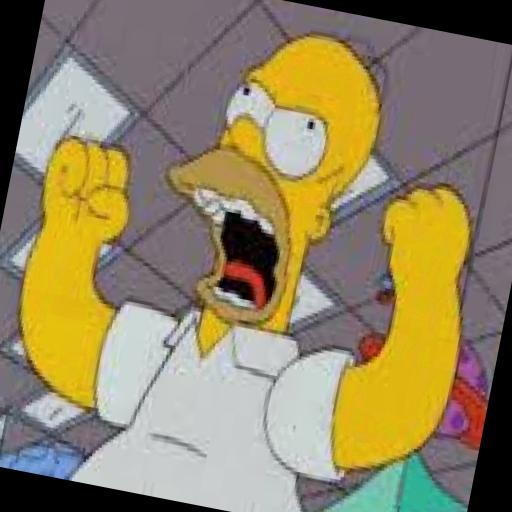Fist: (0, 94, 168, 314), (337, 140, 496, 352)
